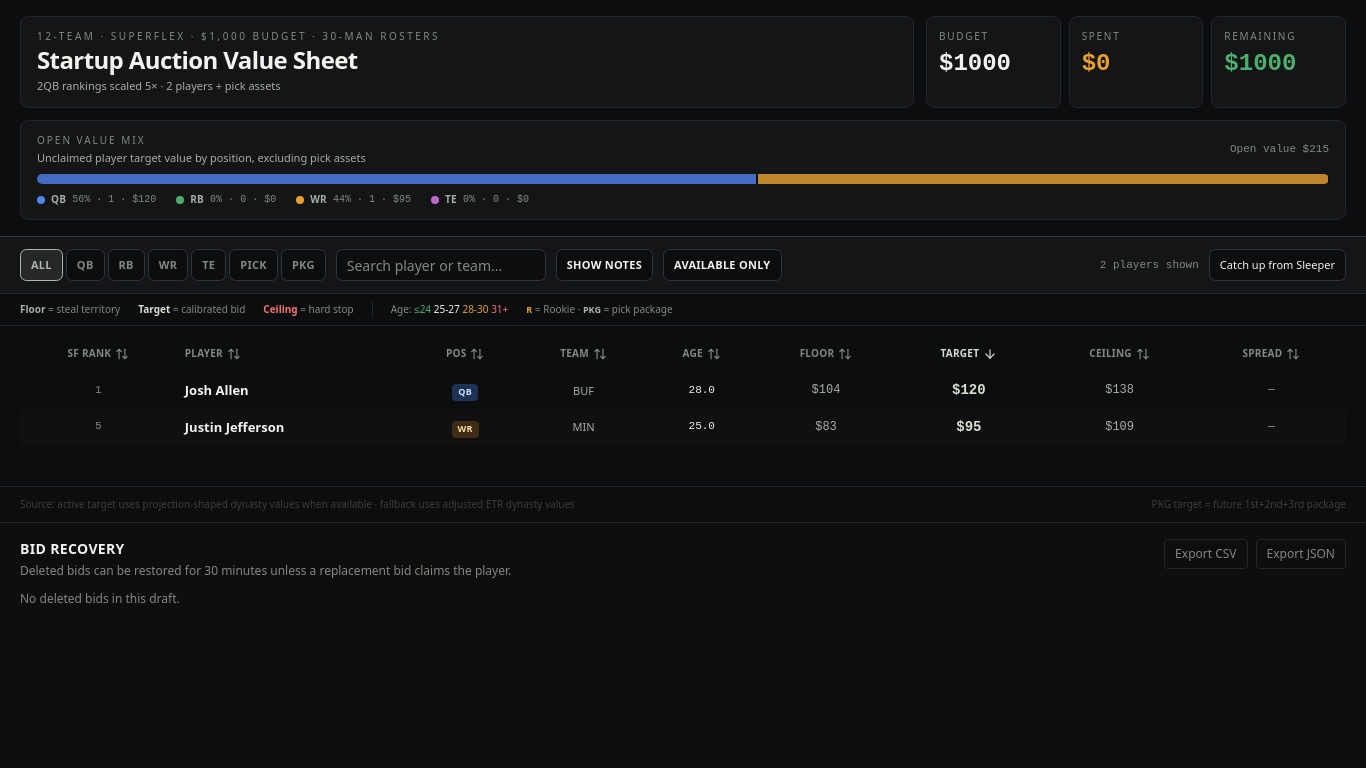
Test: AuctionSheet URL state › filters visible rows immediately while search URL synchronization is debounced
Type "jeff" into the field with test id "player-search" at [441, 265], box left=336, top=249, right=546, bottom=281
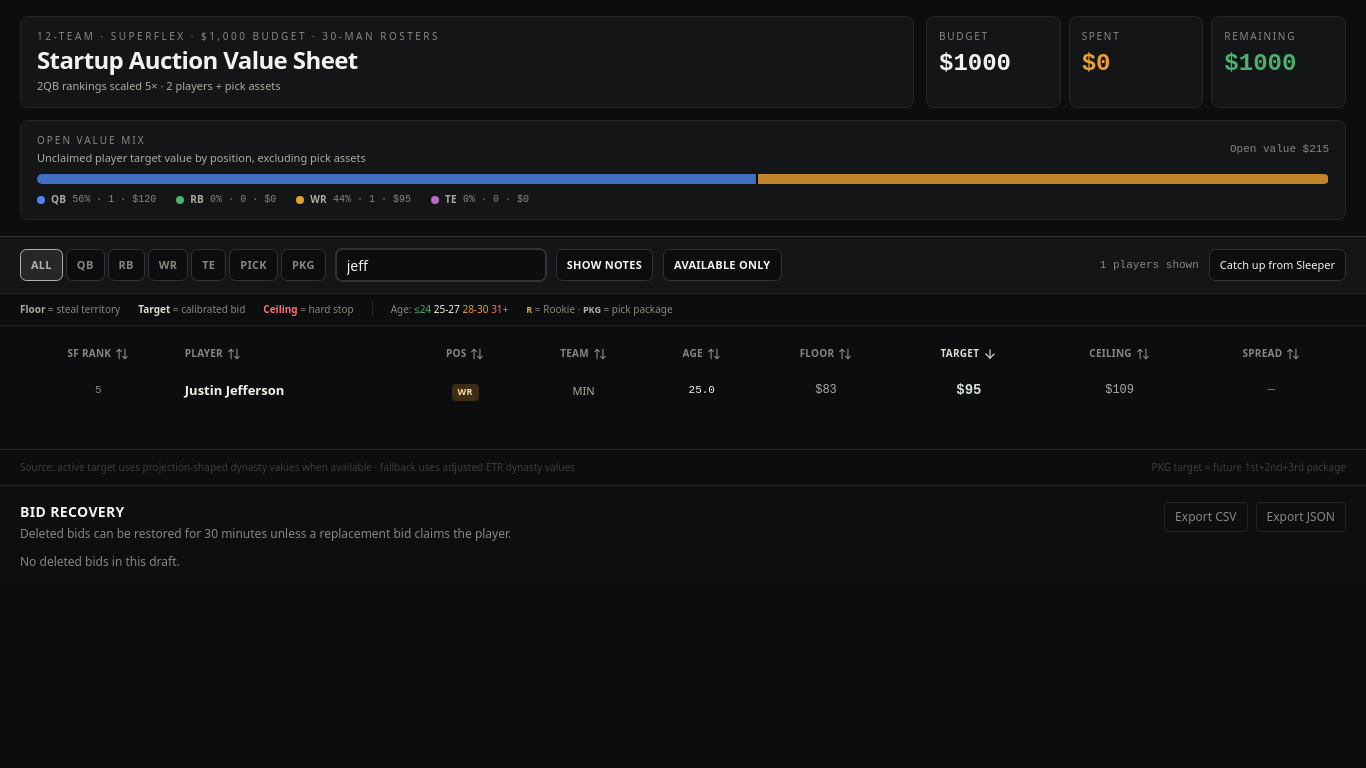
Expected: the row with test id "player-row-5" is shown, left=20, top=372, right=1346, bottom=409
Now the row with test id "player-row-1" is gone
